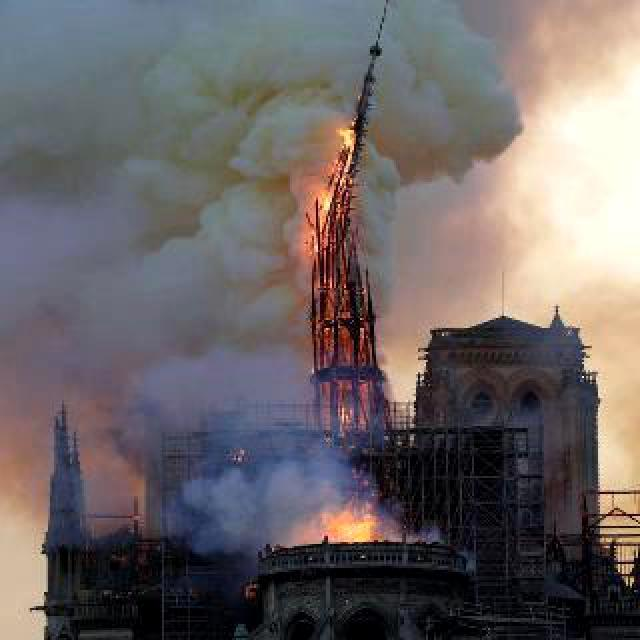Fire: (296, 122, 364, 434), (310, 502, 380, 554)
Smoke: (2, 19, 296, 538), (371, 0, 516, 192)
